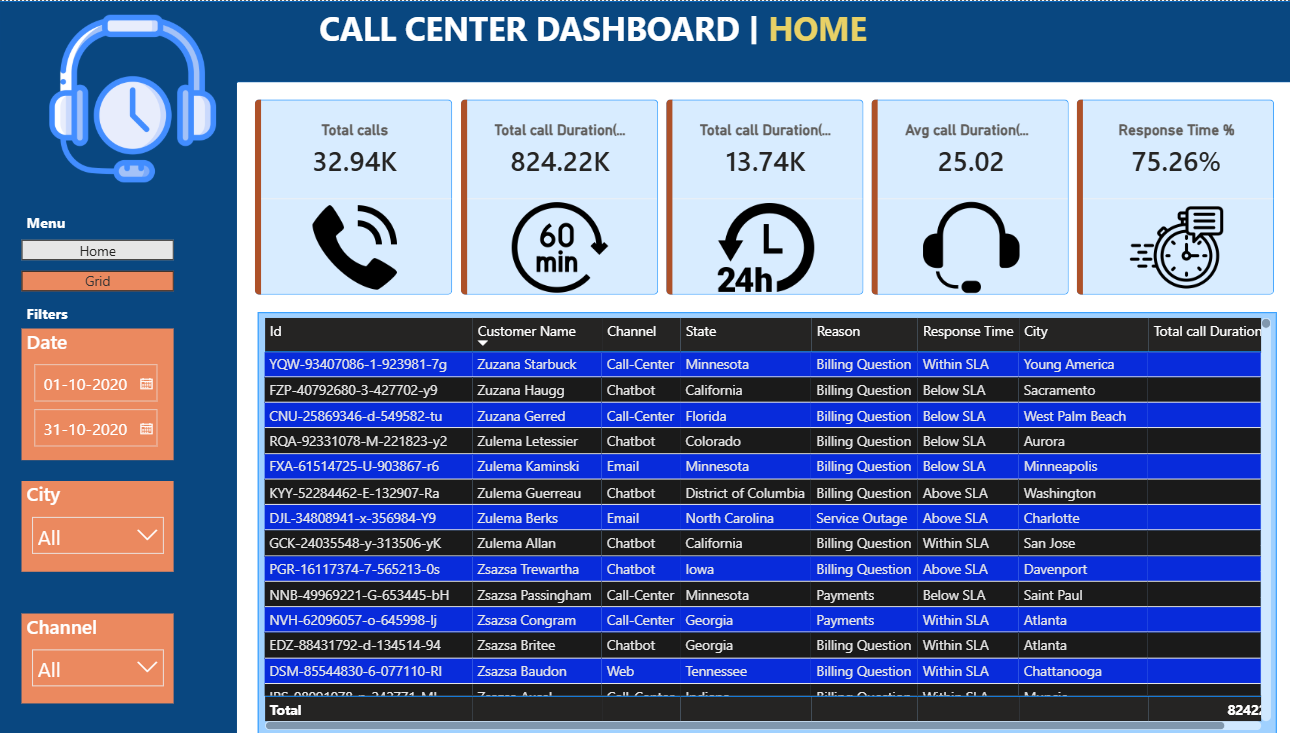

What the dashboard file says about the page in this screenshot:
{"tool":"powerbi","page":{"name":"Grid","canvas":[1280,720],"ordinal":1},"visuals":[{"type":"shape","box":[9.7,0,1270.8,50],"z":0},{"type":"shape","box":[0,0,1281.2,80],"z":1000},{"type":"shape","box":[0,48,233,671],"z":2000},{"type":"cardVisual","fields":{"Data":["Call Center_Call Center (1).Total calls","Call Center_Call Center (1).Total call Duration(min)","Call Center_Call Center (1).Total call Duration(hrs)","Call Center_Call Center (1).Avg call Duration(Min)","Call Center_Call Center (1).Response Time %"]},"box":[233.6,79.5,1032.1,225],"z":3000},{"type":"textbox","box":[299.6,0,980.7,47.7],"z":4000},{"type":"slicer","title":"Date","fields":{"Values":["Date table.Date"]},"box":[22,320,149,129],"z":5000},{"type":"slicer","title":"City","fields":{"Values":["Call Center_Call Center (1).City"]},"box":[22,470,149,89],"z":6000},{"type":"slicer","title":"Channel","fields":{"Values":["Call Center_Call Center (1).Channel"]},"box":[22,599,149,88],"z":7000},{"type":"image","box":[42.8,13.5,176.1,163.9],"z":8000},{"type":"tableEx","fields":{"Values":["Call Center_Call Center (1).Id","Call Center_Call Center (1).Customer Name","Call Center_Call Center (1).Channel","Call Center_Call Center (1).State","Call Center_Call Center (1).Reason","Call Center_Call Center (1).Response Time","Call Center_Call Center (1).City","Call Center_Call Center (1).Total call Duration(min)"]},"box":[253,305,997,415],"z":9000},{"type":"pageNavigator","box":[22,233,149,50],"z":10000},{"type":"textbox","box":[22,202,110,30],"z":11000},{"type":"textbox","box":[22,291,117,29],"z":12000}]}

Visuals, with their boxes in screenshot pixels (x1, y1, x2, y2), scaled from the page's 1280x720 canvas onto the 1290x733 screenshot:
shape: locate(10, 0, 1289, 51)
shape: locate(0, 0, 1289, 81)
shape: locate(0, 49, 235, 732)
cardVisual - Call Center_Call Center (1).Total calls x Call Center_Call Center (1).Total call Duration(min): locate(235, 81, 1276, 310)
textbox: locate(302, 0, 1289, 49)
"Date" slicer: locate(22, 326, 172, 457)
"City" slicer: locate(22, 478, 172, 569)
"Channel" slicer: locate(22, 610, 172, 699)
image: locate(43, 14, 221, 181)
tableEx - Call Center_Call Center (1).Id x Call Center_Call Center (1).Customer Name: locate(255, 311, 1260, 732)
pageNavigator: locate(22, 237, 172, 288)
textbox: locate(22, 206, 133, 236)
textbox: locate(22, 296, 140, 326)
